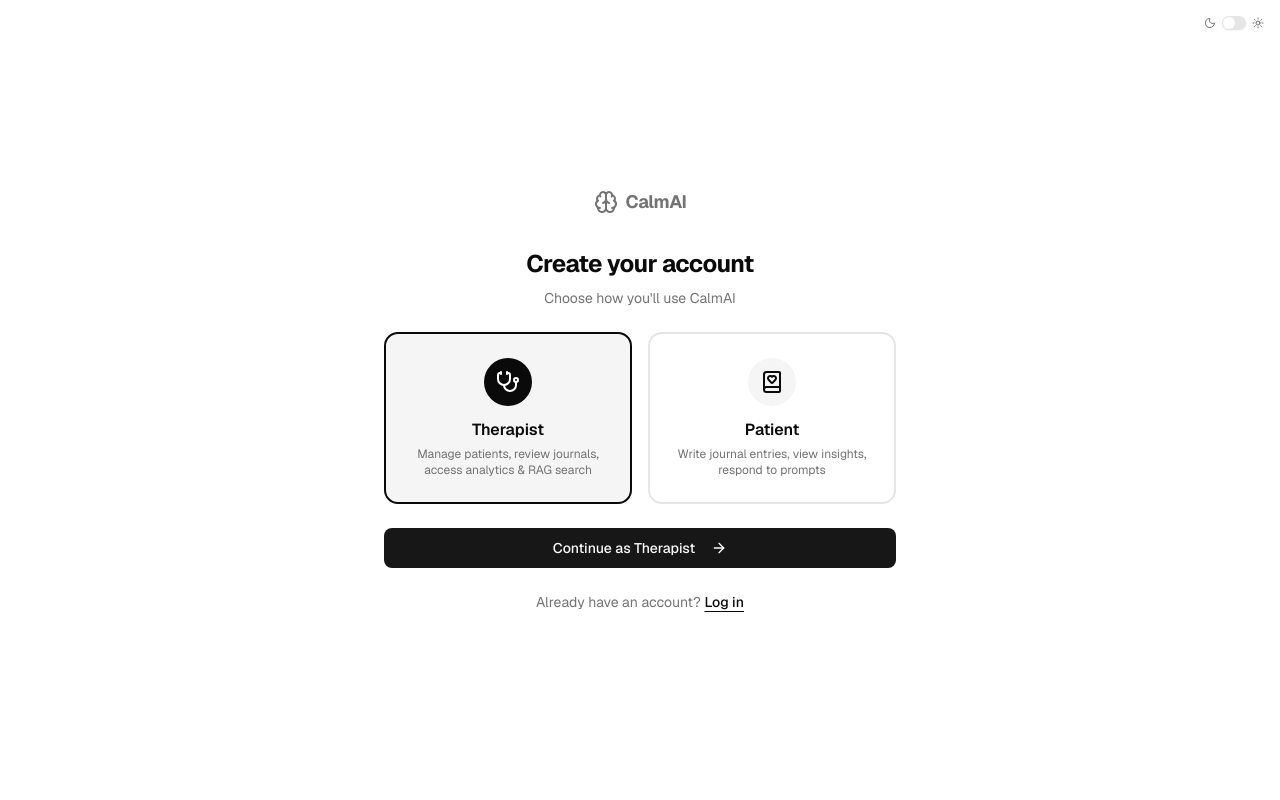
Test case: Signup page › can go back from form to role selection
This screenshot has width=1280, height=800.
Step 1. Click the button "Continue as Therapist" → click(640, 548), box x1=384 y1=528 x2=896 y2=568
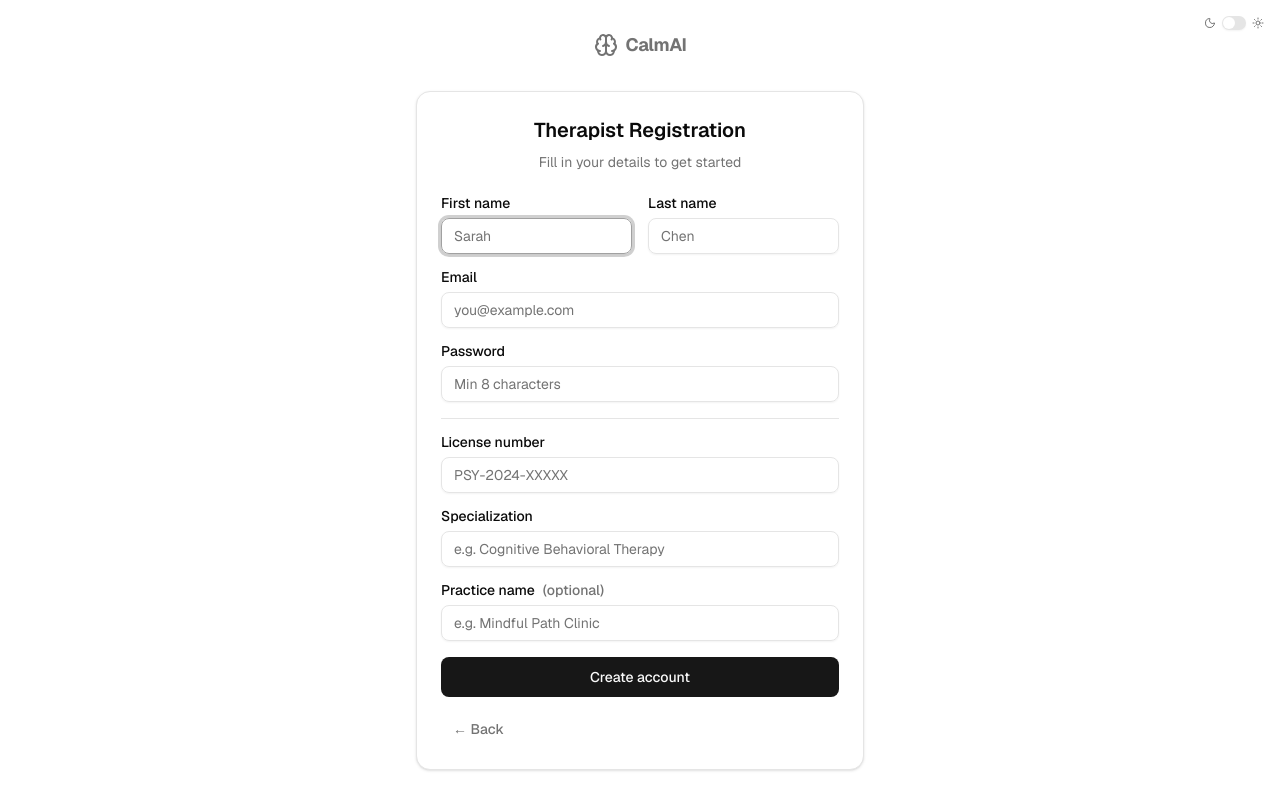
expect the text "Therapist Registration" is shown: met, box x1=534 y1=116 x2=746 y2=142
Step 2. Click the button "← Back" → click(478, 728), box x1=441 y1=712 x2=516 y2=744
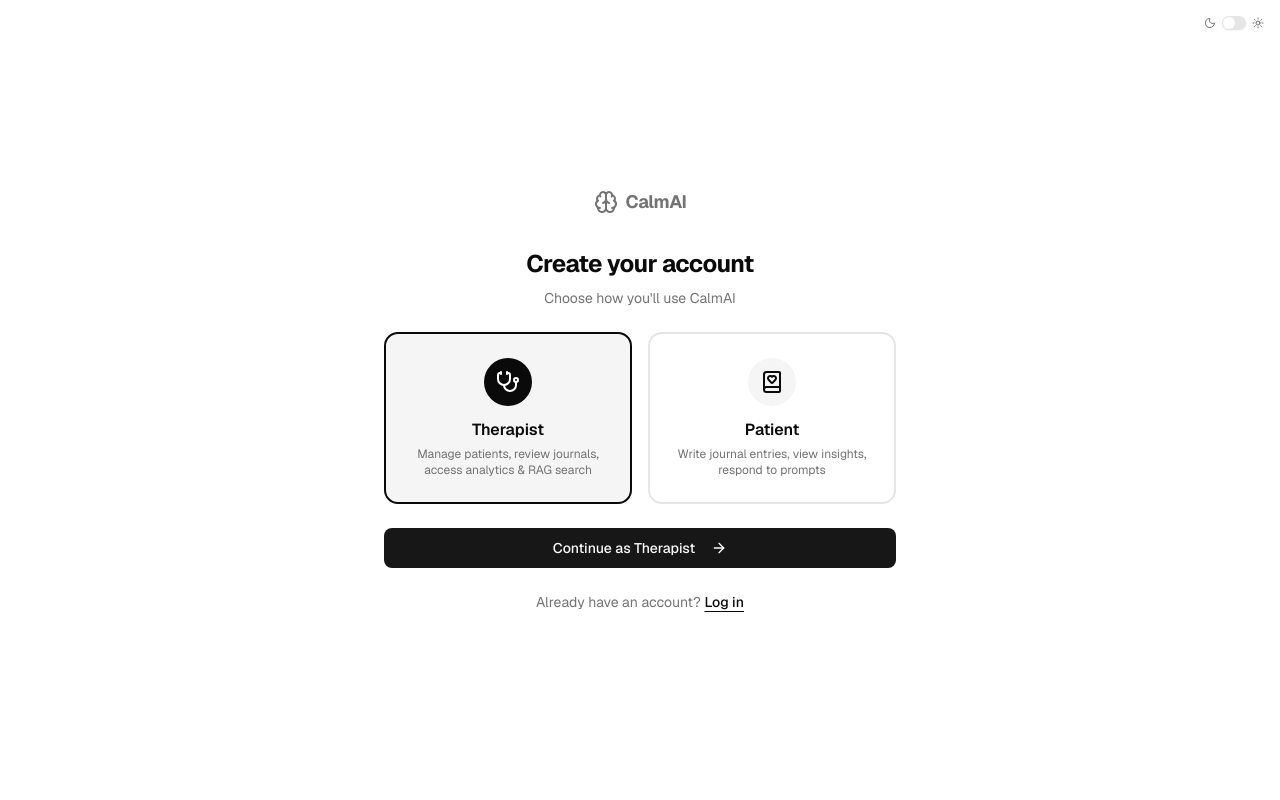
expect the heading "Create your account" is shown: met, box x1=526 y1=248 x2=754 y2=279
